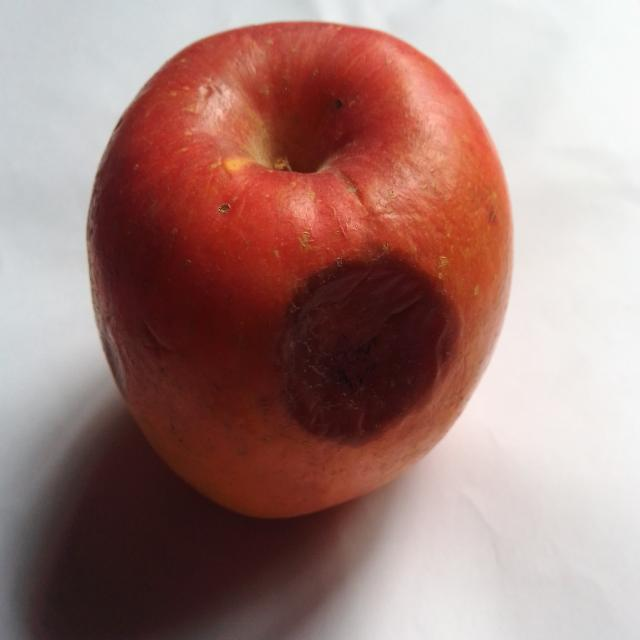apple: (88, 23, 511, 516)
